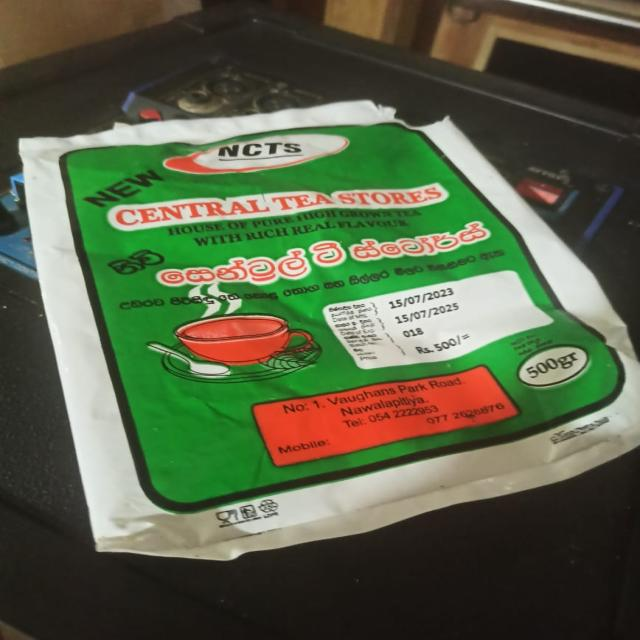Central Tea: (89, 138, 604, 523)
